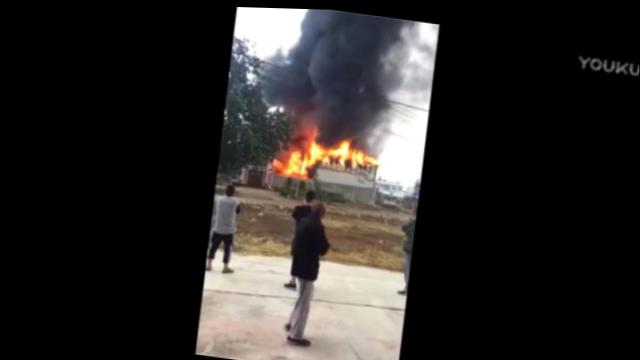fire: (281, 146, 310, 177), (327, 137, 349, 163), (308, 137, 324, 161), (348, 147, 366, 166), (365, 154, 376, 163)
